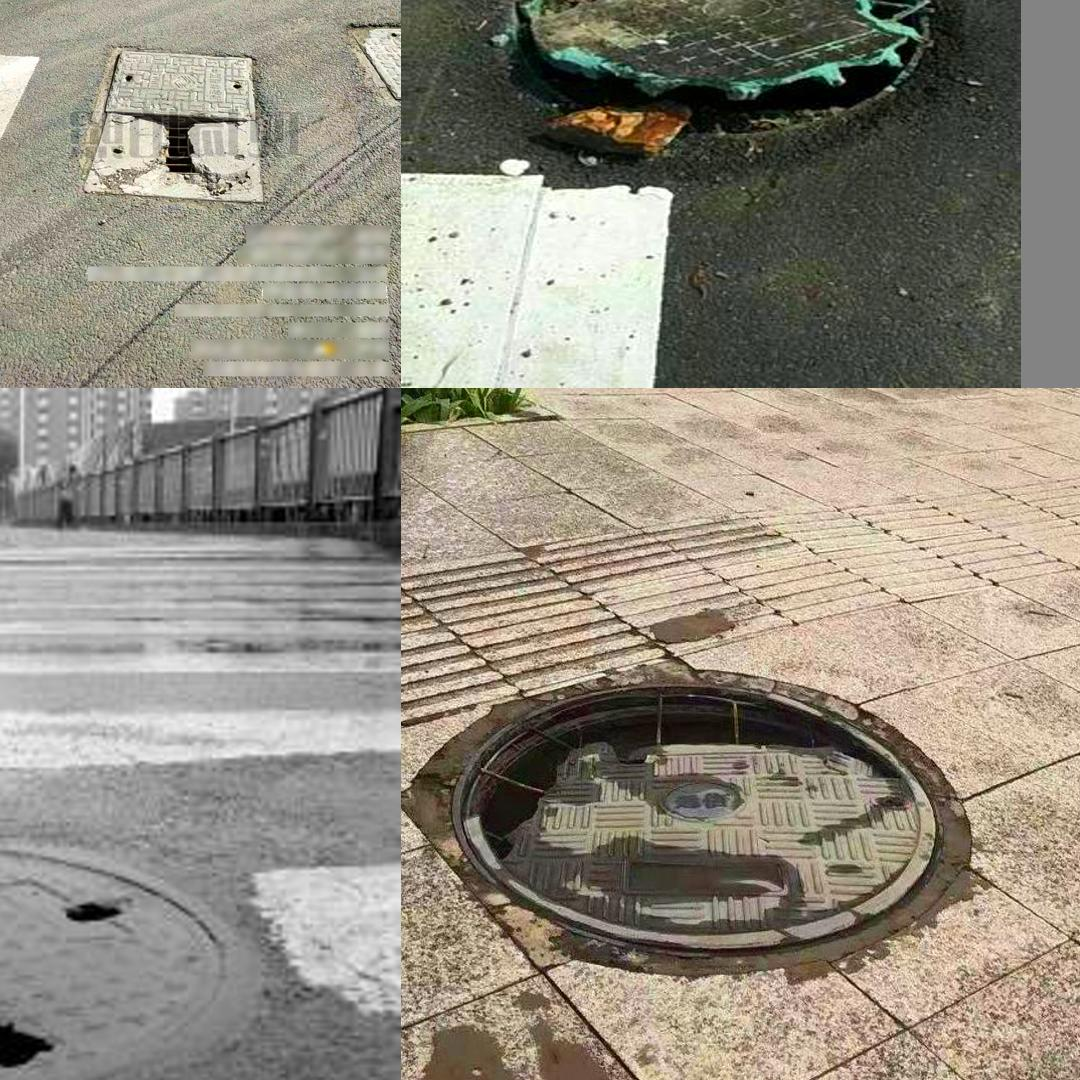broke: (449, 678, 942, 957), (422, 0, 1001, 177), (0, 860, 321, 1080), (80, 50, 265, 203)
